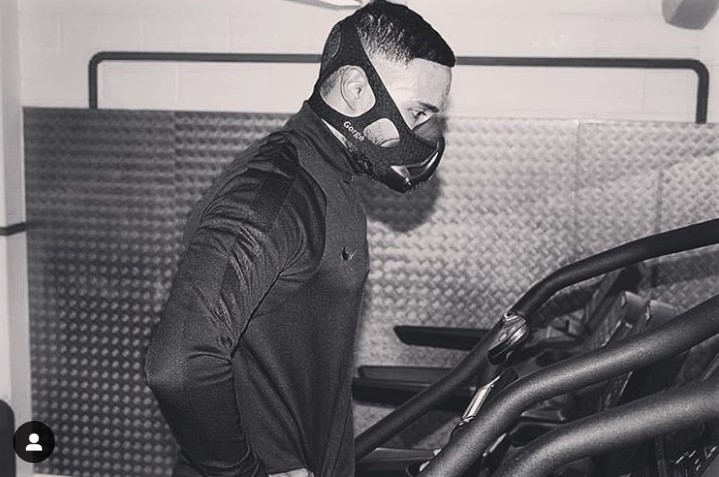face_with_mask: (327, 5, 453, 197)
